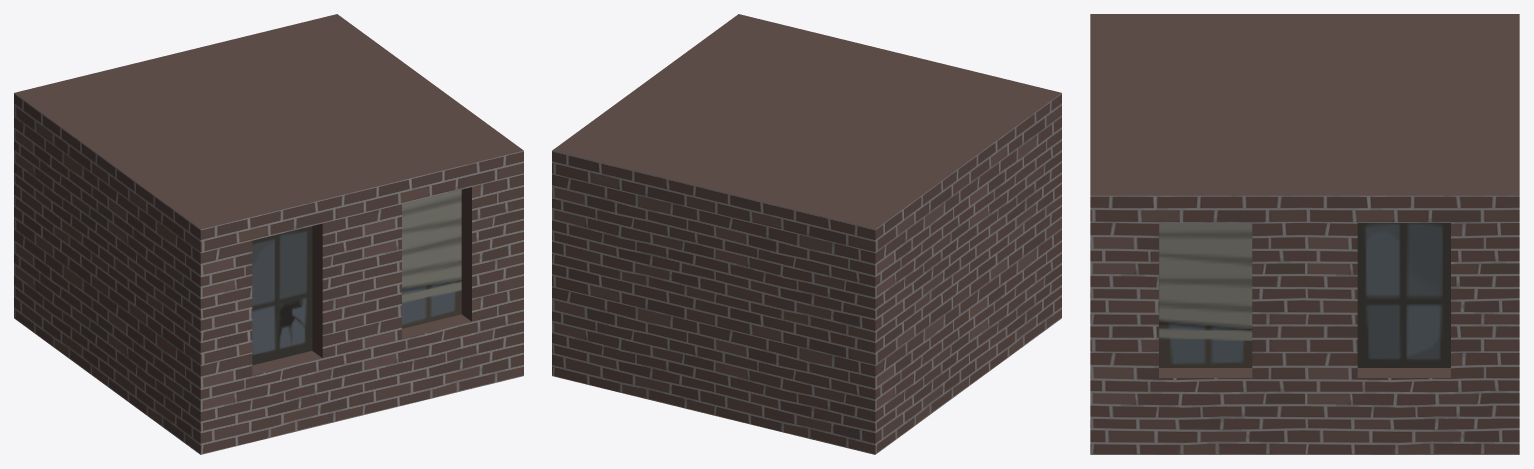
File: Bock_E3.fbx
The picture shows the model from 3 angles, left to right: view 1: azimuth 30°, elevation 25°; view 2: azimuth 150°, elevation 25°; view 3: azimuth 270°, elevation 25°; orthographic projection. The views are drawn at different scales.
Visible parts, largest first — view 1: Bock_E3; view 2: Bock_E3; view 3: Bock_E3.
Part boxes in pixels (left/top/right/bottom): Bock_E3: left=14, top=14, right=523, bottom=454; Bock_E3: left=552, top=14, right=1061, bottom=454; Bock_E3: left=1090, top=14, right=1519, bottom=454.
Bounding box in the file's own units: 600 × 400 × 600.
